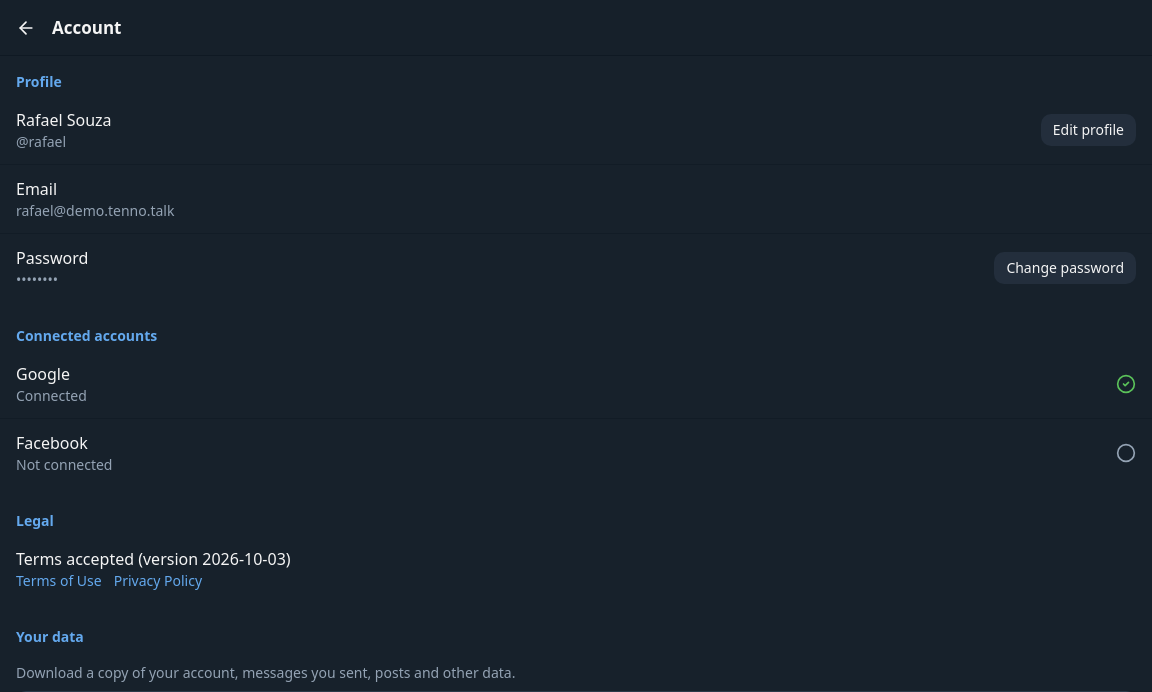
Test: settings › changes the password after checking the current one
The image size is (1152, 692).
Click the button "Change password".
click(1065, 268)  # box 994,252 -> 1136,284
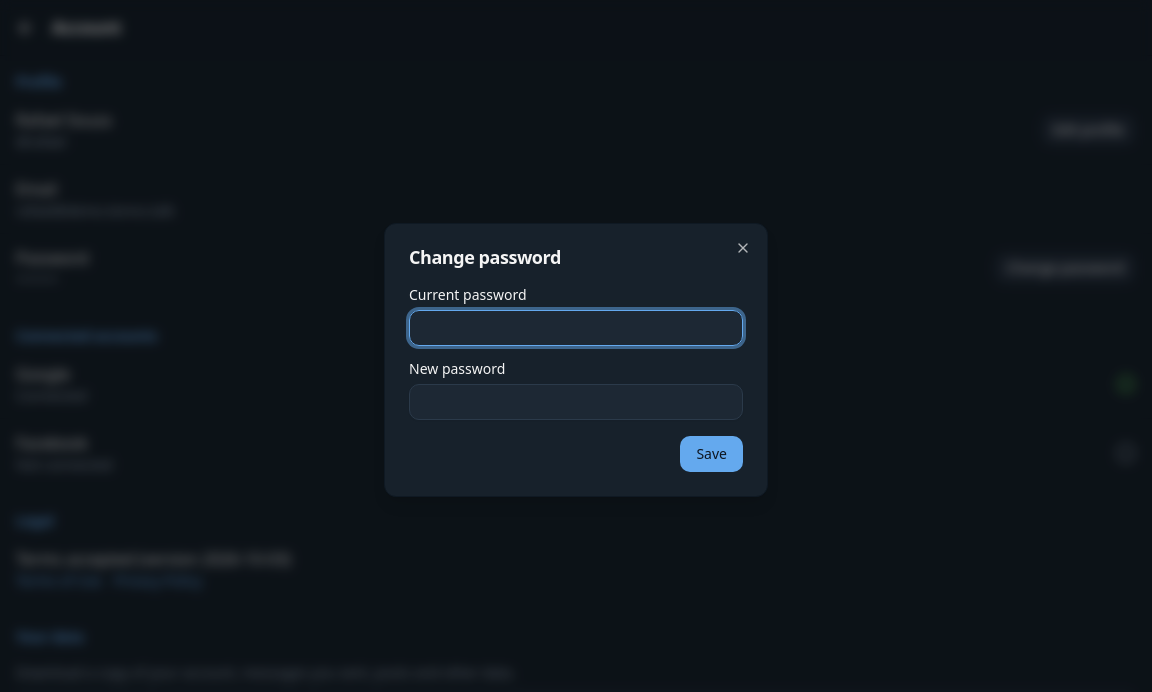
Type "wrong" into the password field labelled "Current password".
click(576, 328); type("wrong")  # box 409,310 -> 743,346
Type "newsecret1" into the password field labelled "New password".
click(576, 402); type("newsecret1")  # box 409,384 -> 743,420
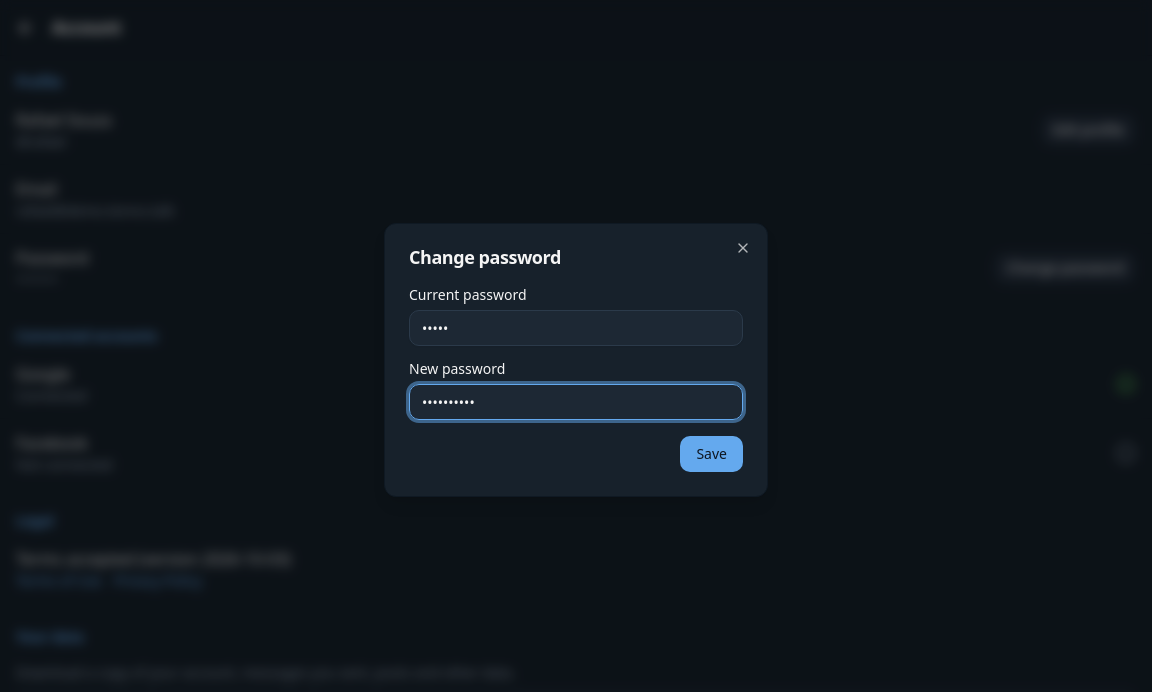
Click the button "Save".
click(712, 454)  # box 680,436 -> 743,472
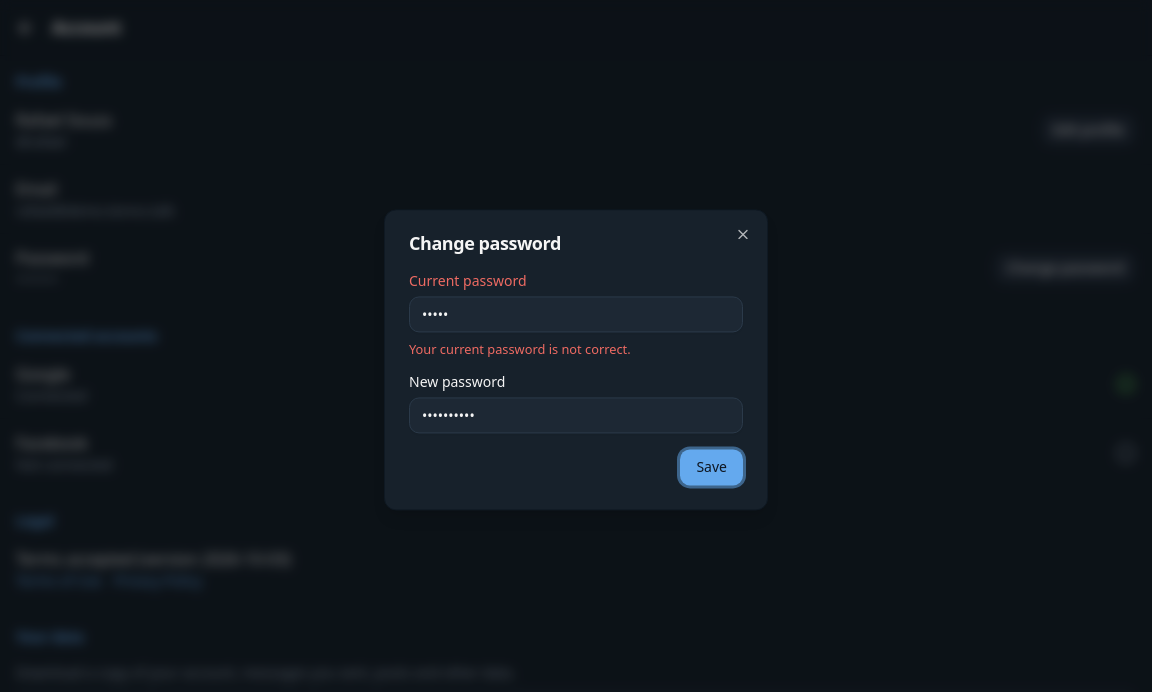
Expected: the text "Your current password is not correct." is shown, 409,340 -> 631,358
Clear the password field labelled "Current password" at (576, 314), box 409,296 -> 743,332
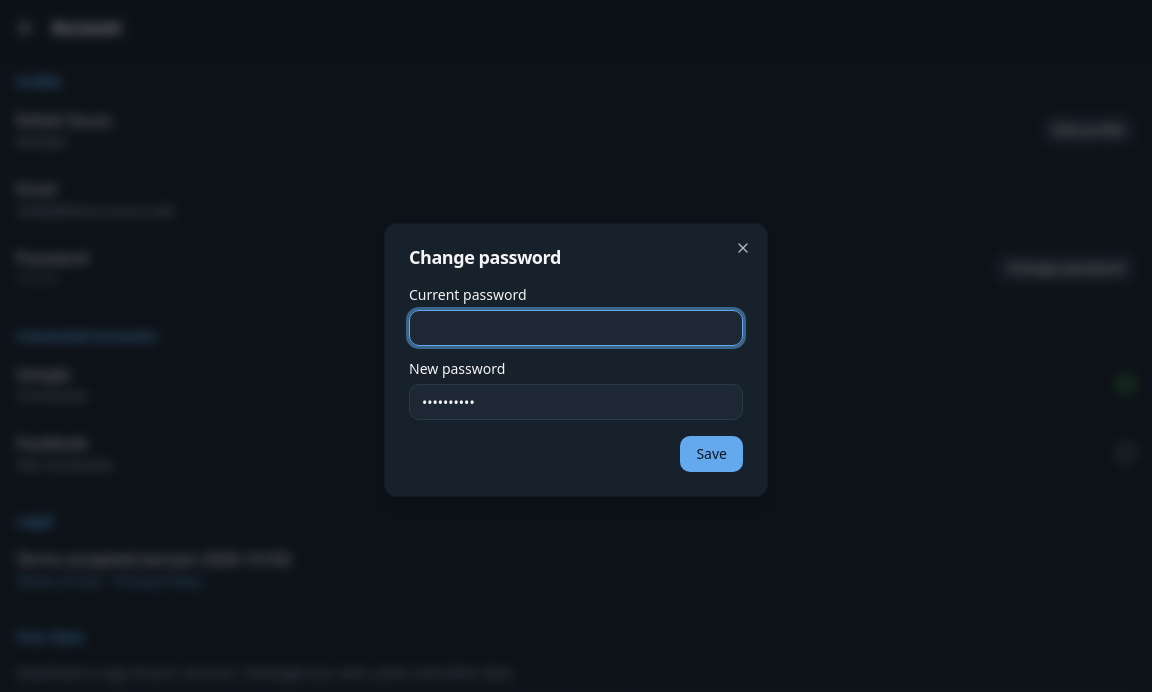
Type "demo1234" into the password field labelled "Current password".
click(576, 328); type("demo1234")  # box 409,310 -> 743,346
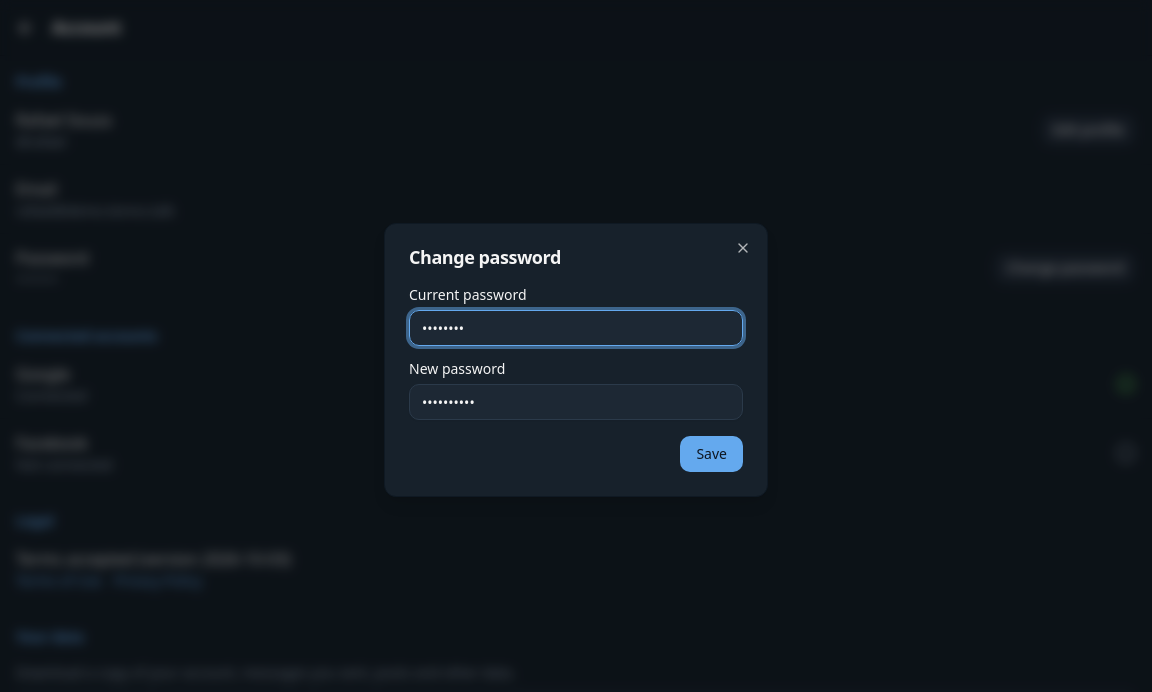
Click the button "Save".
click(712, 454)  # box 680,436 -> 743,472
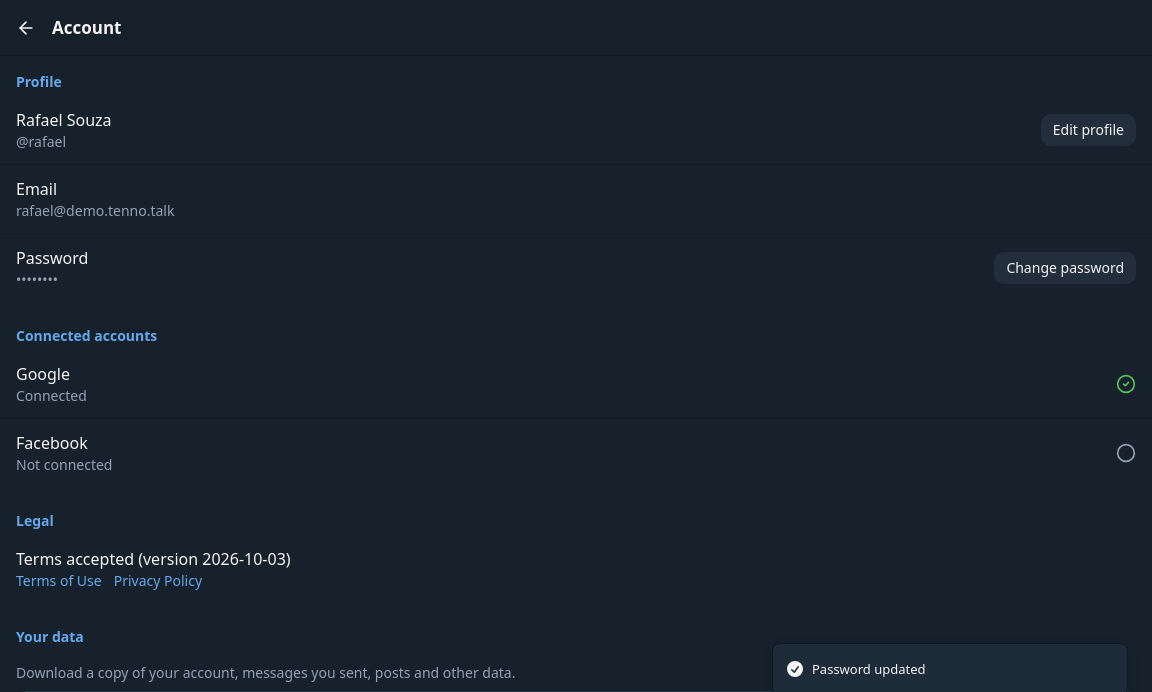
Expected: the text "Password updated" is shown, 812,660 -> 926,679
